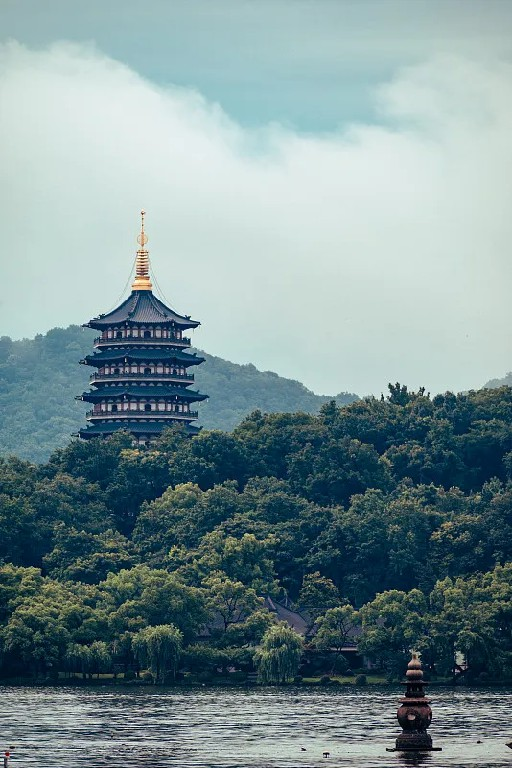Leifeng: (74, 208, 207, 463)
